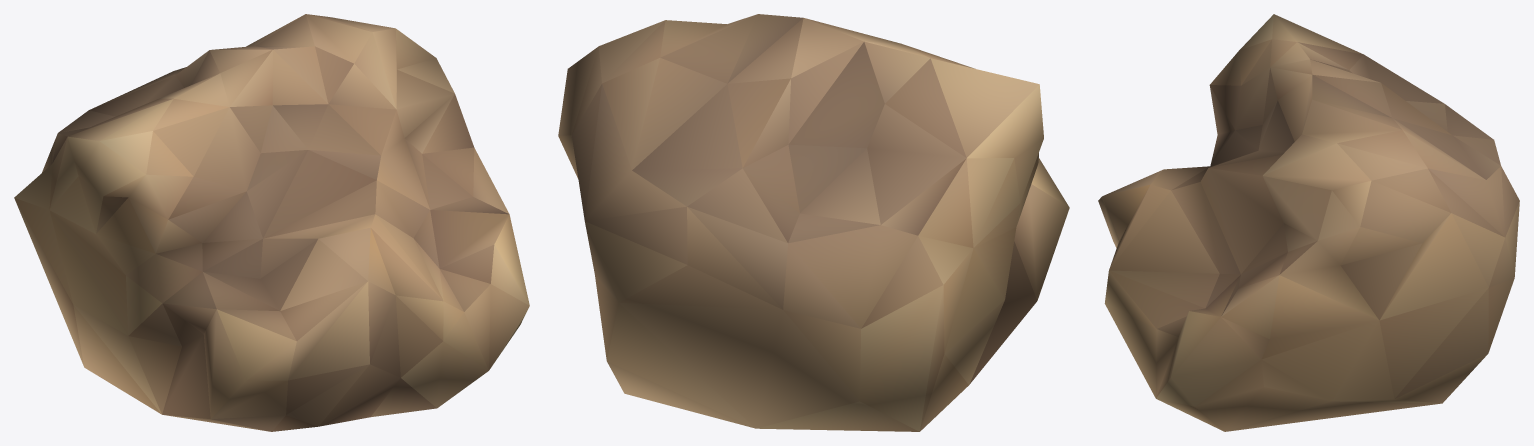
The model's file is granite_2_far.glb.
3 views of the same model, side by side, from view 1: azimuth 30°, elevation 25°; view 2: azimuth 150°, elevation 25°; view 3: azimuth 270°, elevation 25° (orthographic). The views are drawn at different scales.
Parts seen in each view (by area): view 1: tripo_part_0; view 2: tripo_part_0; view 3: tripo_part_0.
Part boxes in pixels (<box>): tripo_part_0: <box>14,14,529,431</box>; tripo_part_0: <box>558,14,1069,431</box>; tripo_part_0: <box>1098,14,1519,431</box>.
Bounding box in the file's own units: 0.9509 × 0.7498 × 0.9814.
